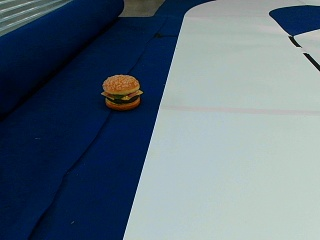burger: (101, 73, 141, 110)
